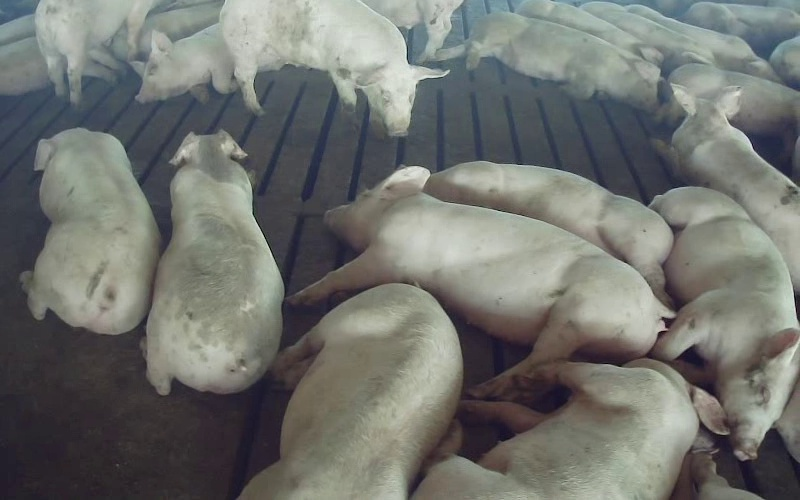pig: (240, 284, 462, 499), (413, 359, 727, 499), (651, 187, 799, 459), (144, 131, 283, 394), (424, 162, 672, 304), (220, 0, 447, 135), (655, 84, 799, 292), (20, 128, 159, 333), (436, 12, 660, 112), (130, 24, 236, 102)
